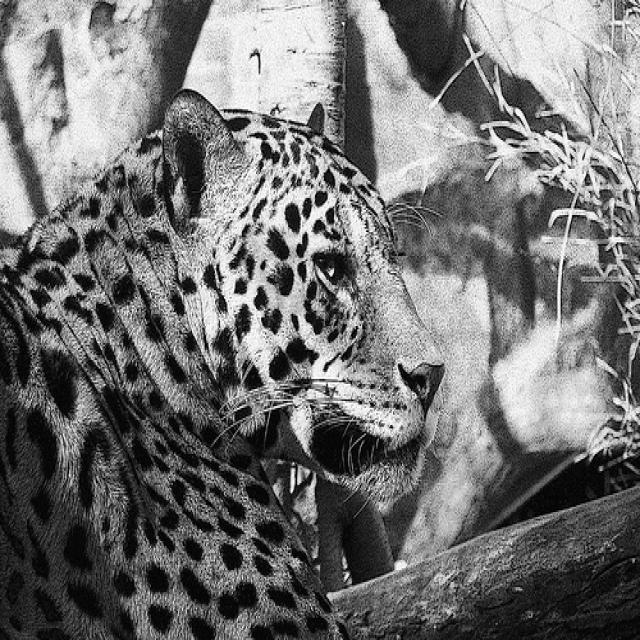Leopard: (0, 87, 451, 637)
